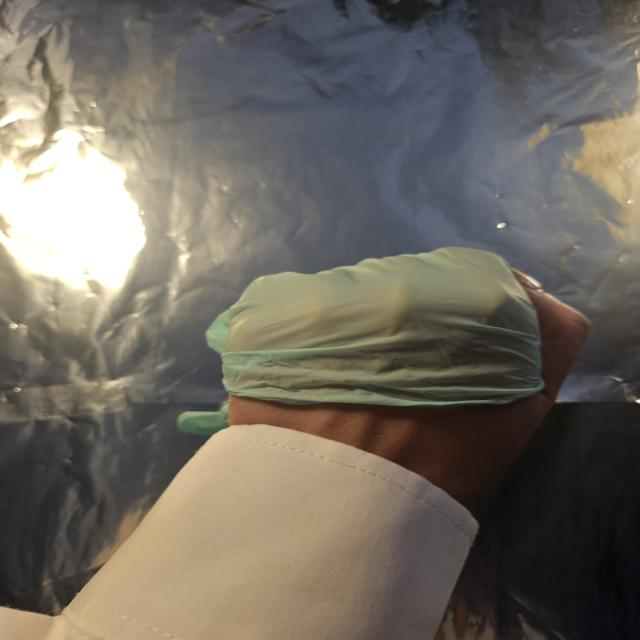glove_partial: (177, 243, 595, 496)
